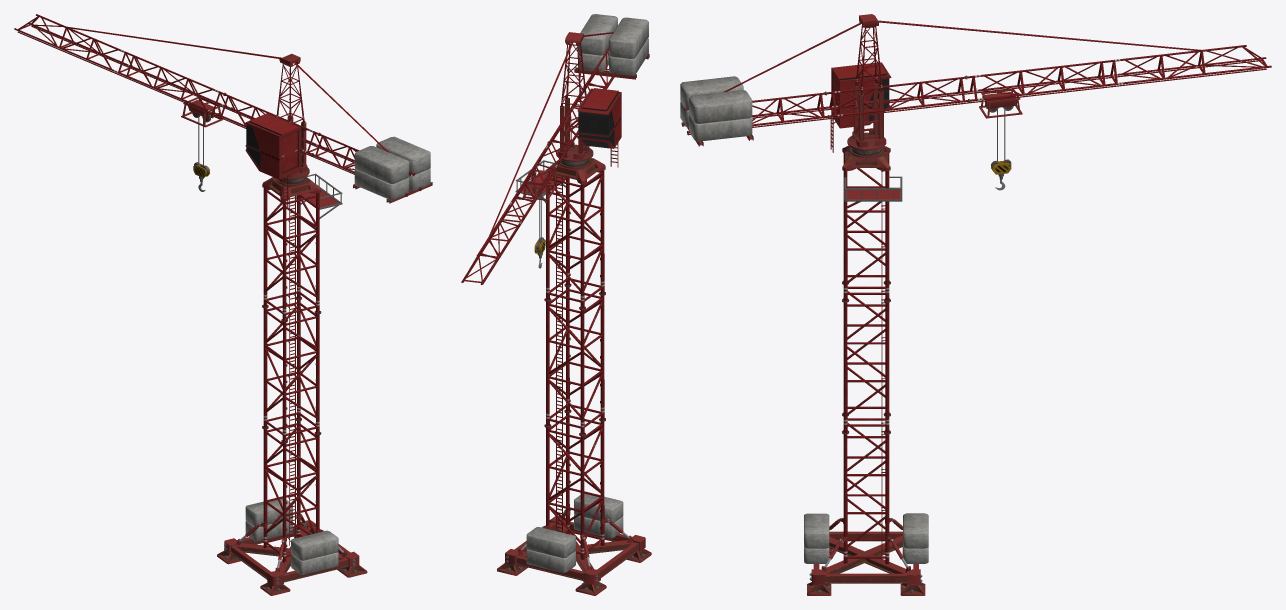
File: Crane.gltf
3 renders of one model, left to right at view 1: azimuth 30°, elevation 25°; view 2: azimuth 150°, elevation 25°; view 3: azimuth 270°, elevation 25°, orthographic. The views are drawn at different scales.
Visible parts, largest first — view 1: SM_TowerTop, SM_TowerBase_2, StaticMeshComponent1, SM_TowerBase_3, SM_TowerHook; view 2: SM_TowerBase_2, SM_TowerTop, StaticMeshComponent1, SM_TowerBase_3, SM_TowerHook; view 3: SM_TowerTop, SM_TowerBase_2, StaticMeshComponent1, SM_TowerBase_3, SM_TowerHook.
Part boxes in pixels (bbox=[...]): SM_TowerTop: bbox=[14, 14, 432, 208]; SM_TowerBase_2: bbox=[262, 188, 321, 562]; StaticMeshComponent1: bbox=[217, 498, 367, 595]; SM_TowerBase_3: bbox=[262, 173, 342, 218]; SM_TowerHook: bbox=[181, 97, 223, 191]; SM_TowerBase_2: bbox=[544, 170, 605, 560]; SM_TowerTop: bbox=[461, 14, 649, 284]; StaticMeshComponent1: bbox=[497, 493, 651, 595]; SM_TowerBase_3: bbox=[515, 158, 605, 203]; SM_TowerHook: bbox=[522, 169, 557, 268]; SM_TowerTop: bbox=[680, 14, 1271, 157]; SM_TowerBase_2: bbox=[842, 153, 890, 567]; StaticMeshComponent1: bbox=[804, 513, 928, 595]; SM_TowerBase_3: bbox=[842, 145, 902, 201]; SM_TowerHook: bbox=[979, 89, 1022, 190].
Bounding box in the file's own units: 14.27 × 43.64 × 42.38.
Materials: 4 (4 with a texture image).
